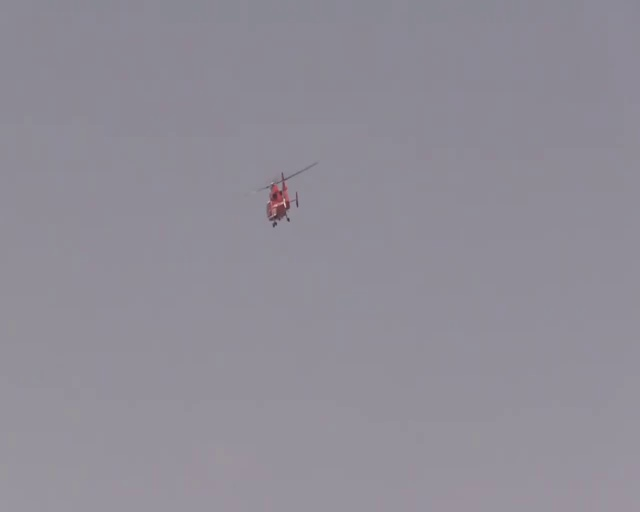HELICOPTER: (254, 160, 318, 227)
